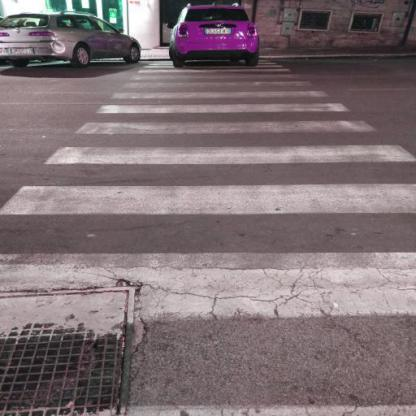crosswalk: (0, 176, 415, 338), (68, 100, 385, 140)
